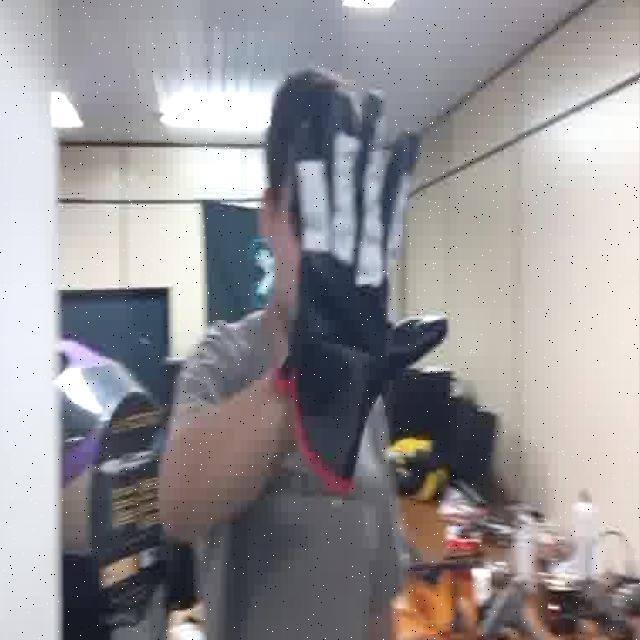Gloves: (287, 76, 448, 469)
